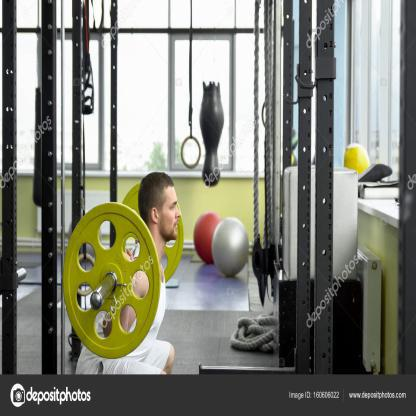Barbell: (60, 198, 168, 362)
